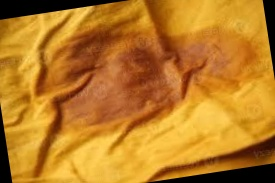oil: (28, 11, 253, 135)
